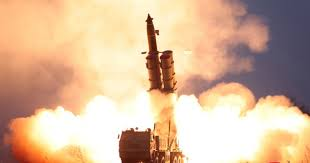ten_lua: (138, 11, 172, 106)
